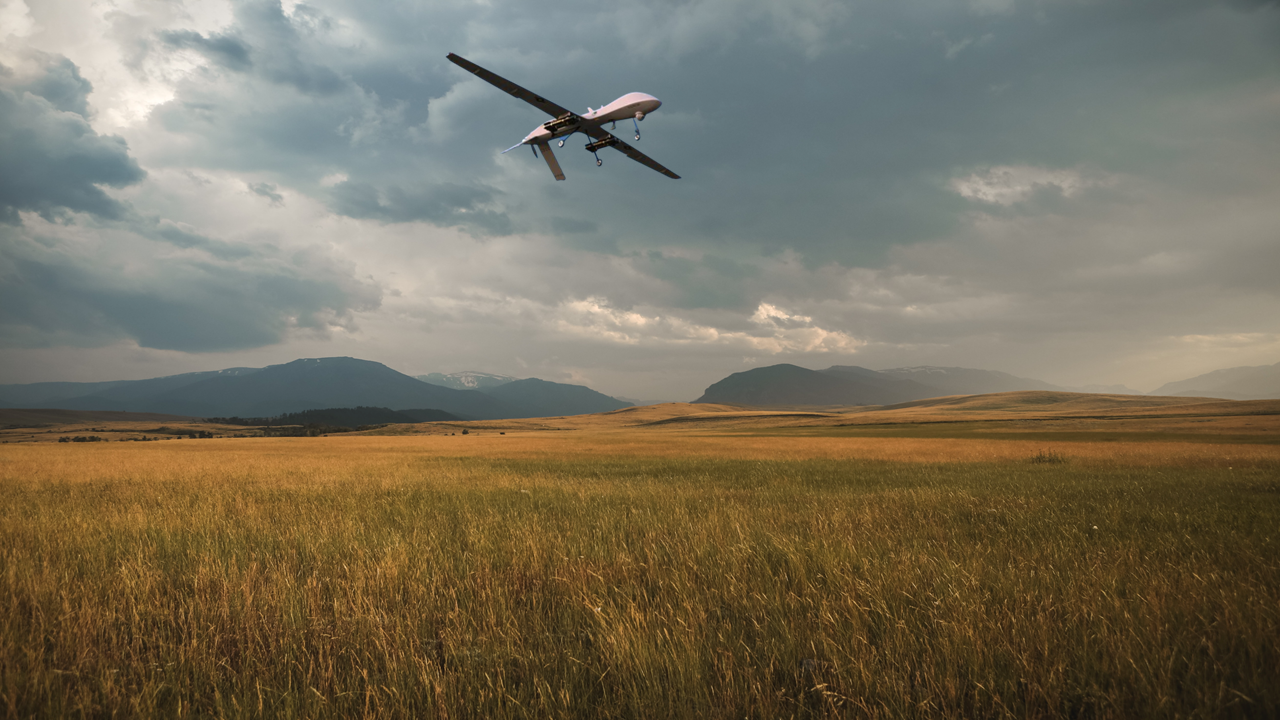military drone: (445, 52, 681, 180)
